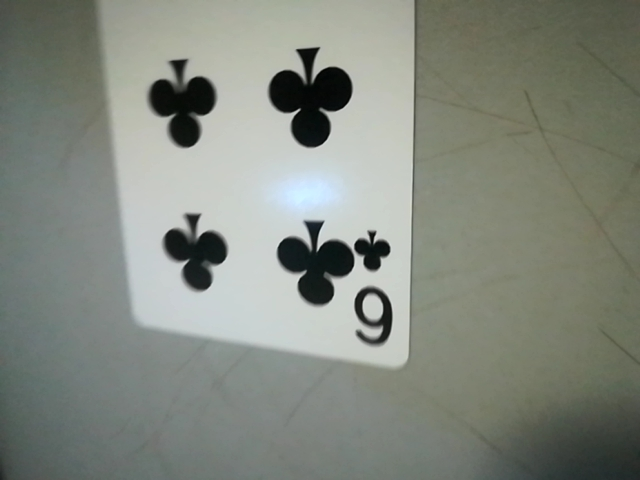mh 6: (346, 225, 405, 358)
